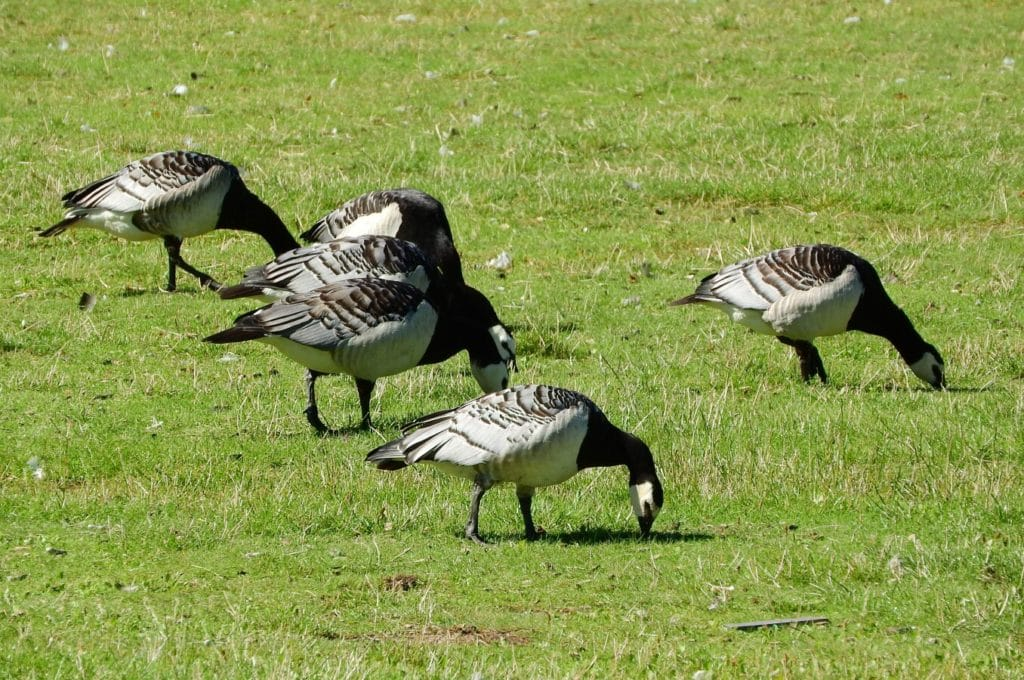goose: (362, 384, 678, 552), (659, 242, 955, 416)
